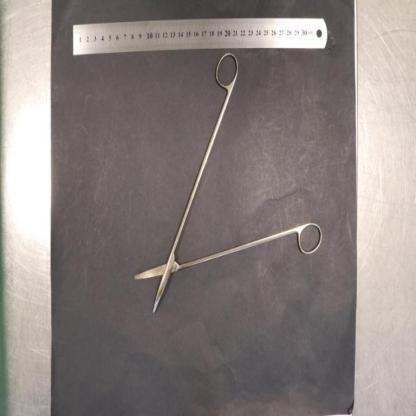9 Metzenbaum Scissors: (134, 50, 324, 316)
